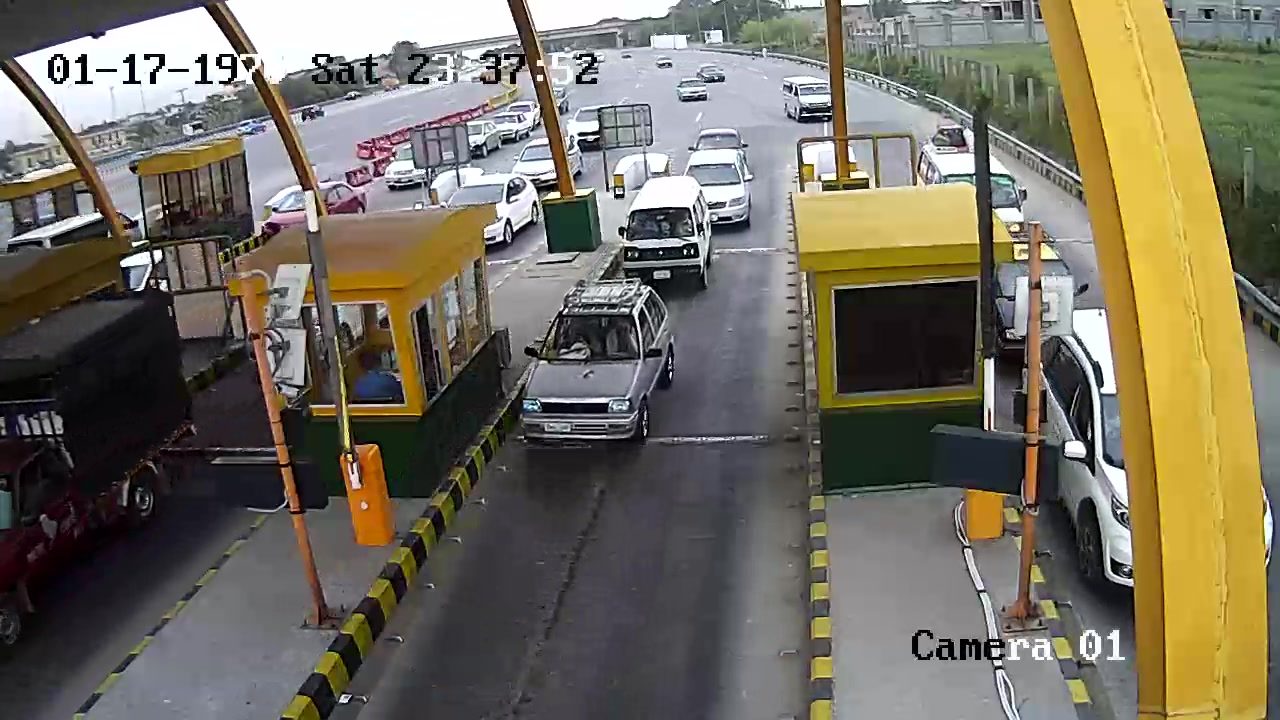F1: (520, 279, 677, 458), (621, 176, 710, 301)
